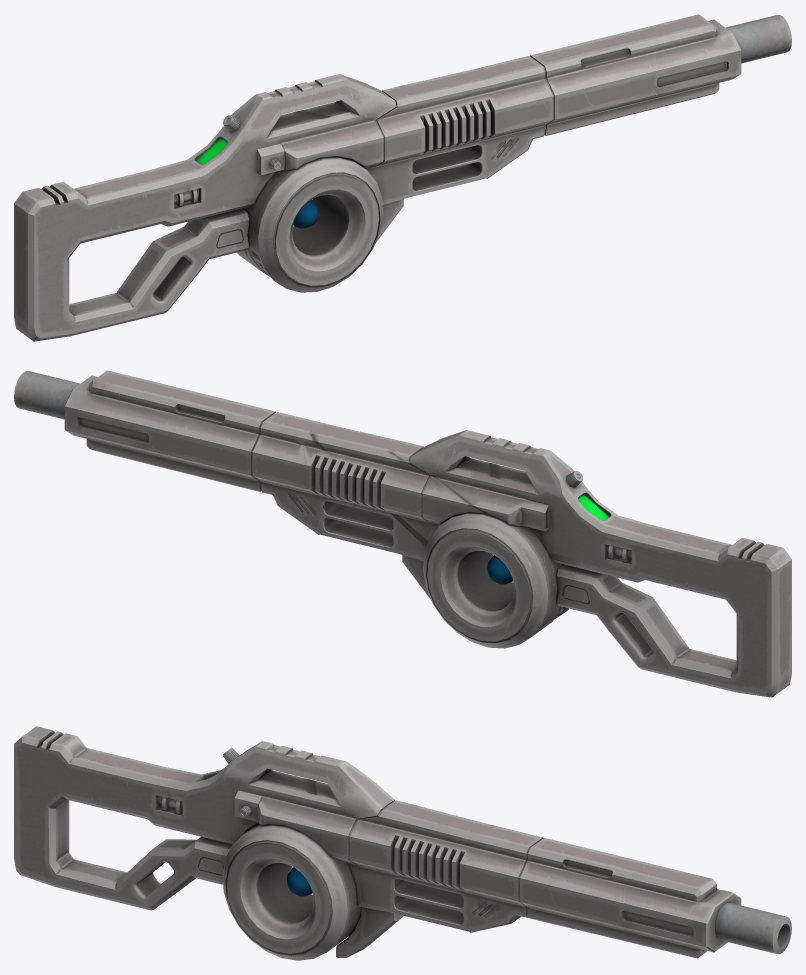
File: LightningGun.fbx
3 views of the same model, one above another, from view 1: azimuth 30°, elevation 25°; view 2: azimuth 150°, elevation 25°; view 3: azimuth 330°, elevation 25° (orthographic).
Visible parts, largest first — view 1: LightningGun; view 2: LightningGun; view 3: LightningGun.
Boxes of the visible parts, bbox=[...] form: LightningGun: bbox=[14, 14, 791, 341]; LightningGun: bbox=[14, 370, 791, 697]; LightningGun: bbox=[14, 726, 791, 960].
Bounding box in the file's own units: 4.77 × 1.15 × 0.5272.
